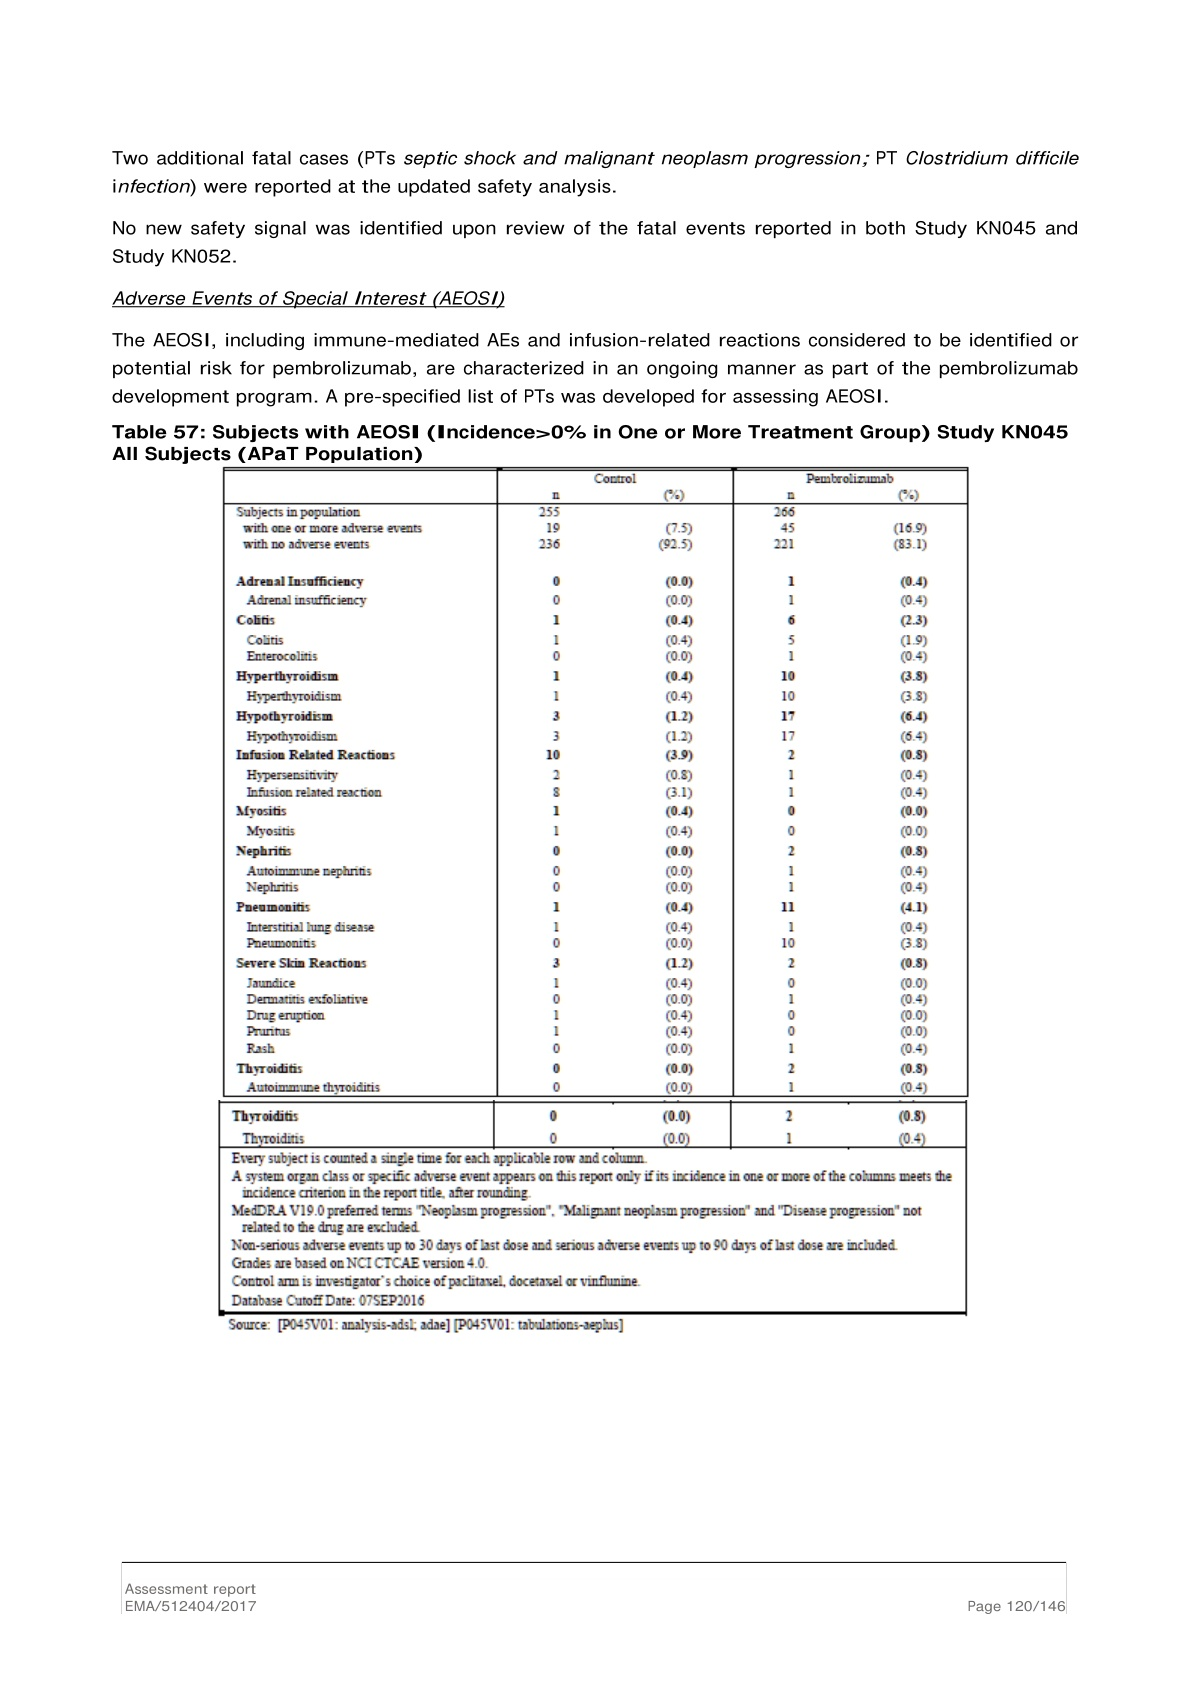partial_lined: (222, 466, 970, 1099)
partial_lined_merged_cells: (218, 1101, 967, 1315)
